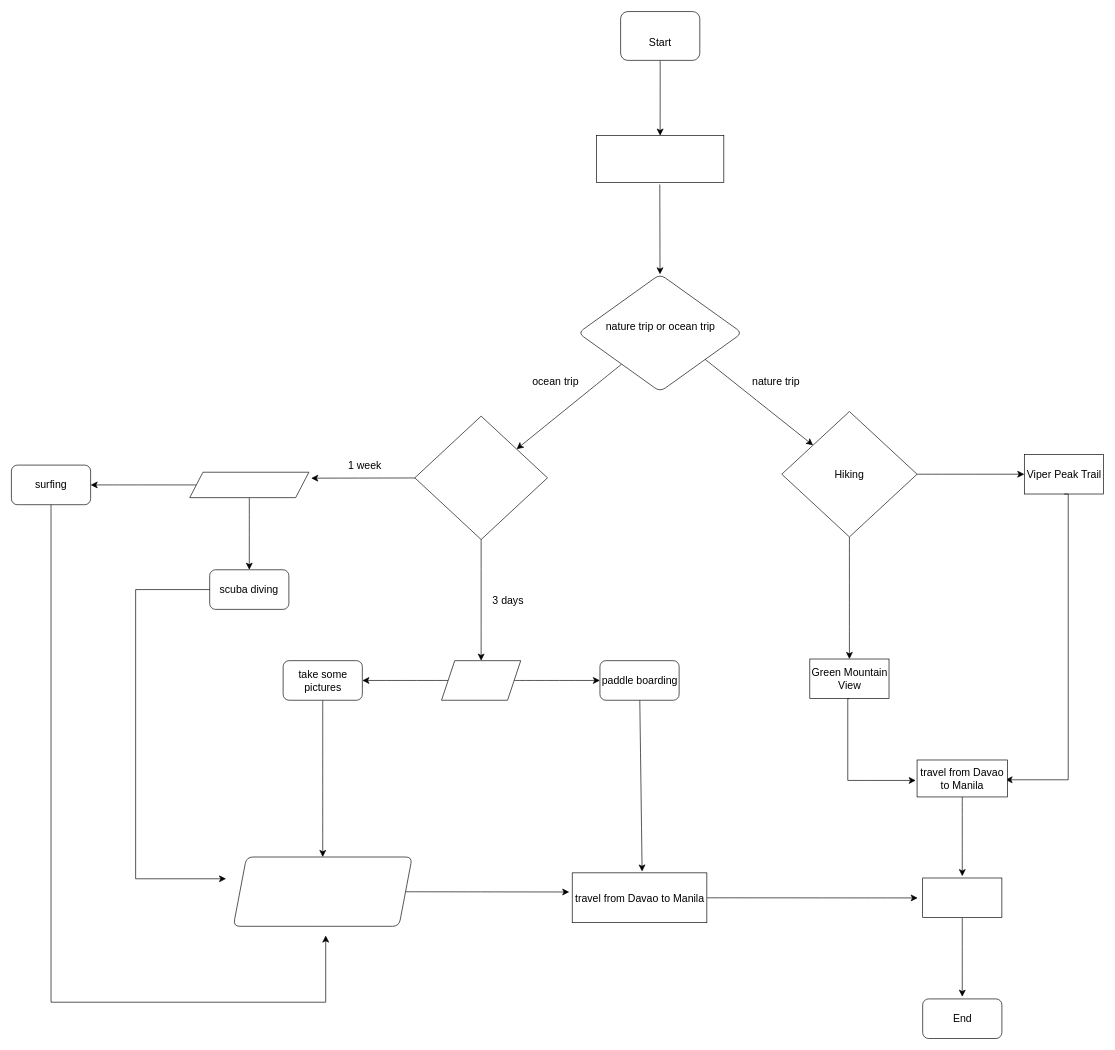
This 1115x1050 diagram has some shape labels left out. The shapes that lost their labels are listed below. From the top down, each one's box as (x1, y1, x2, y2) in pixels, then its label:
(596, 135, 724, 182): travel from manila to Davao
(189, 472, 309, 498): agenda
(414, 415, 547, 540): stay in
(441, 660, 521, 700): plans
(233, 856, 412, 926): swimming
(922, 877, 1002, 918): At Home
